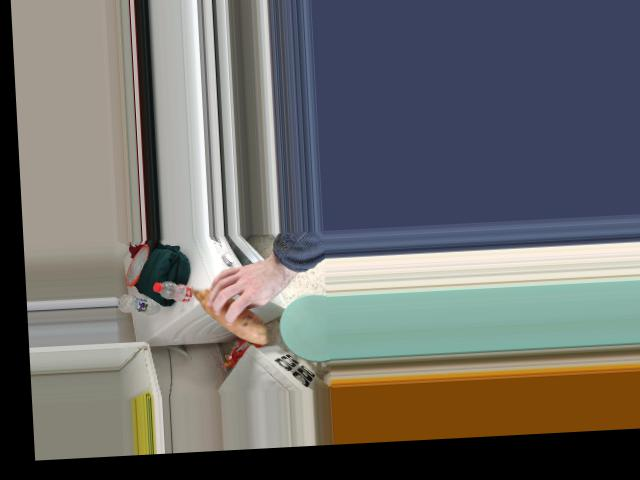sweet_potato: (195, 270, 258, 345)
